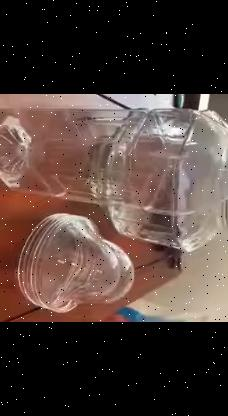Plastic Bottle: (0, 111, 228, 215)
